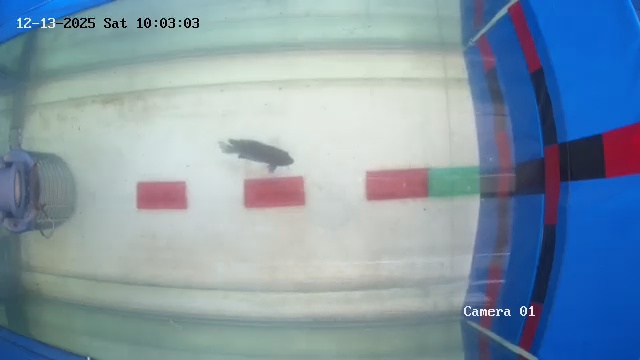fish: (218, 130, 296, 177)
